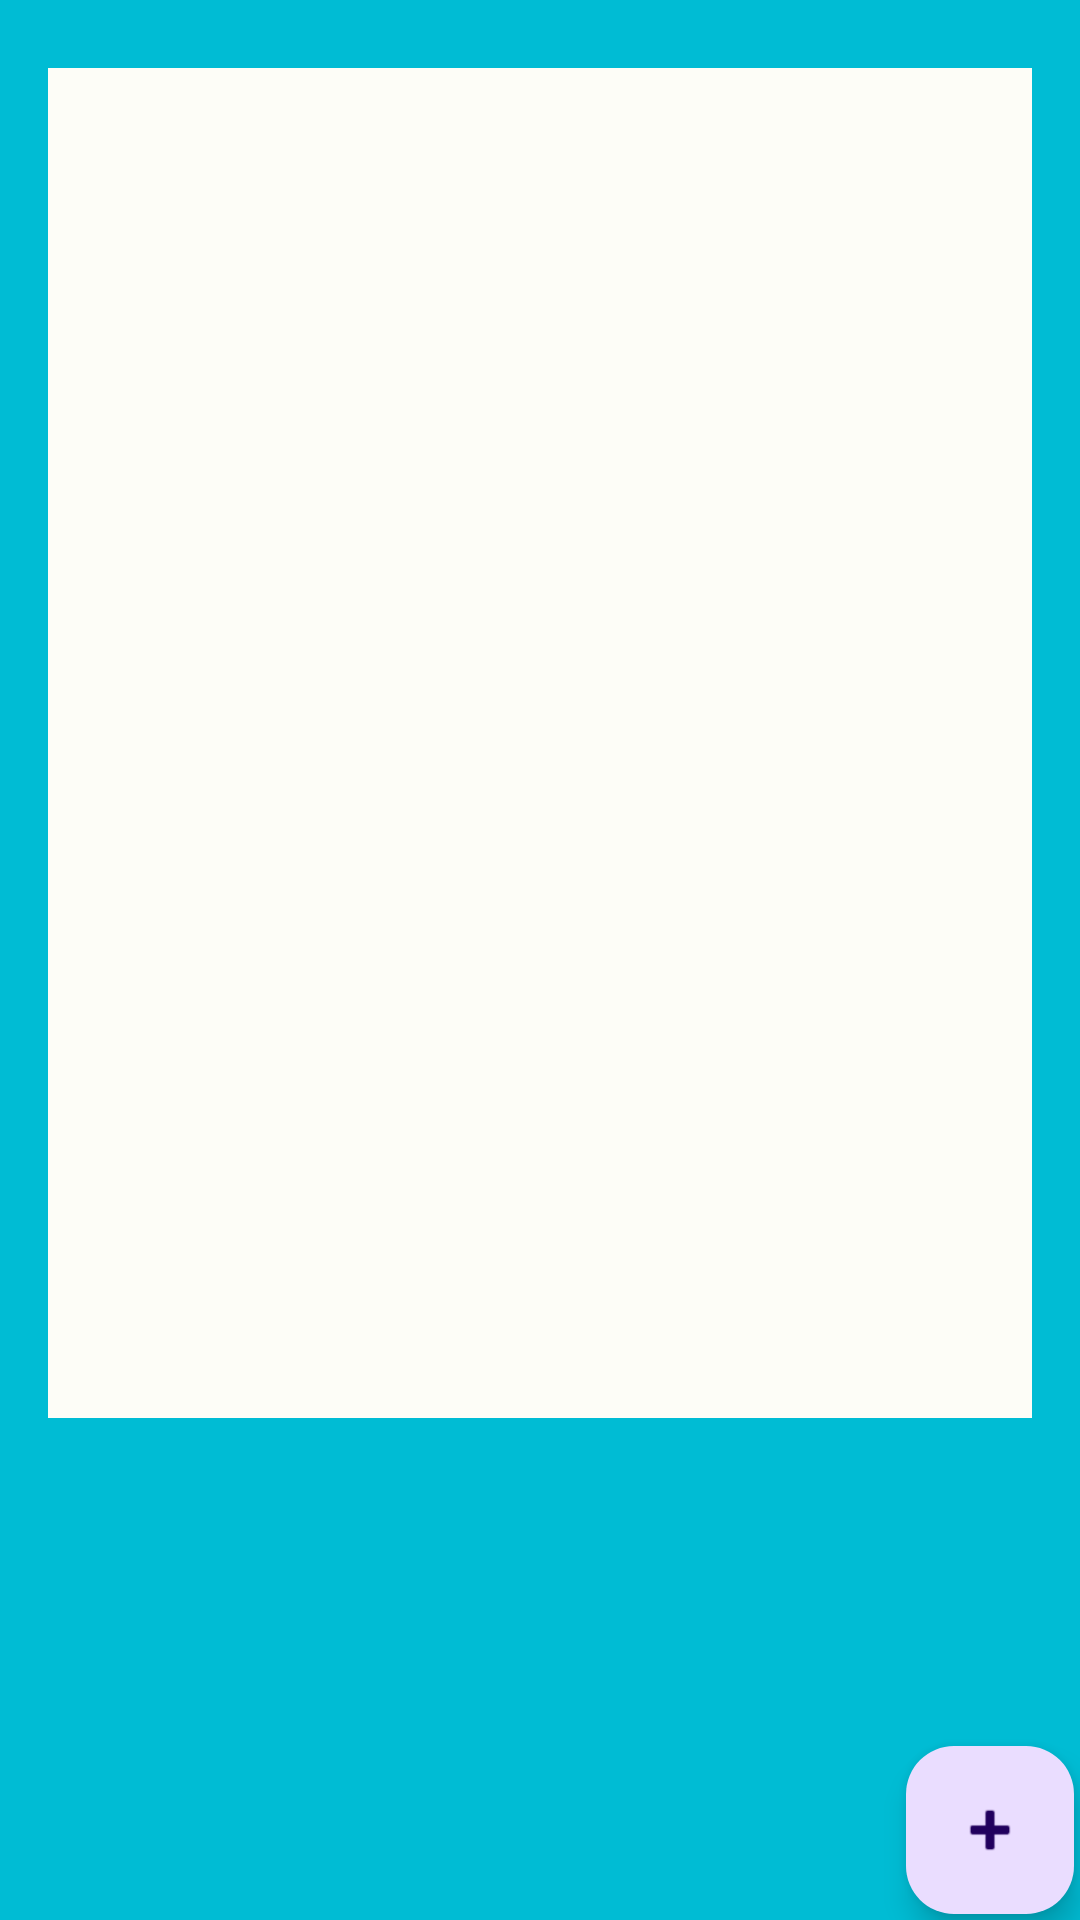

Icons on this 1080 x 1920 Android screen, each with the point to tap as point (x, y):
add: point (990, 1830)
